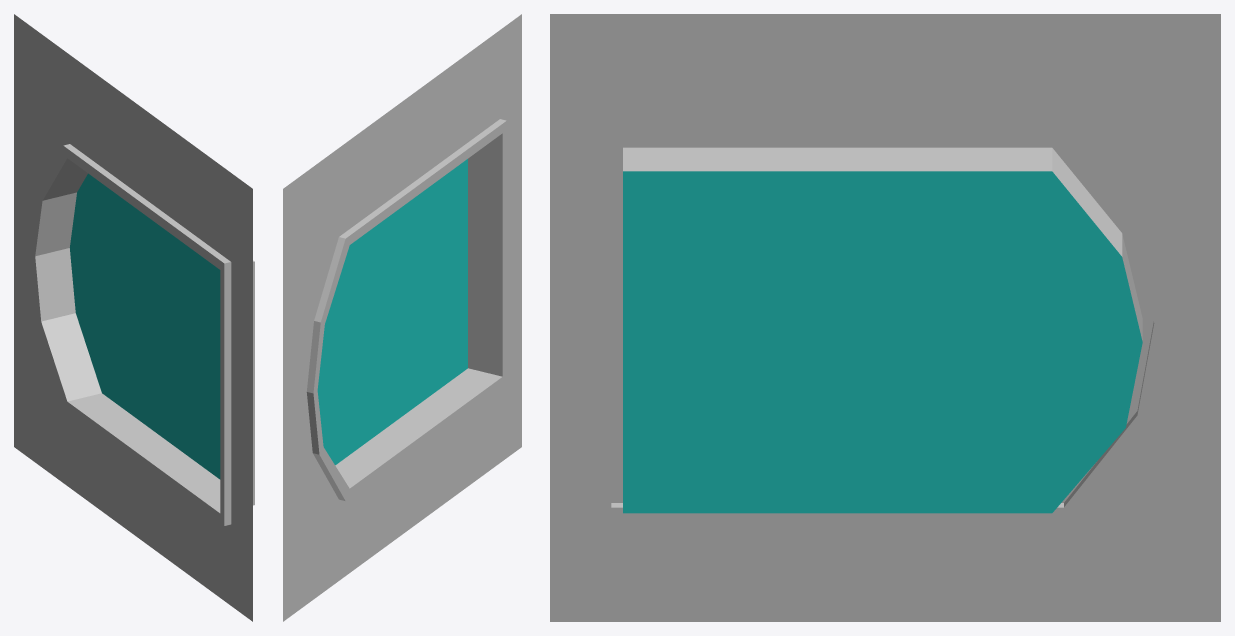
Rendered from SingleWIndow06.fbx.
The picture shows the model from 3 angles, left to right: view 1: azimuth 30°, elevation 25°; view 2: azimuth 150°, elevation 25°; view 3: azimuth 270°, elevation 25°; orthographic projection. The views are drawn at different scales.
Parts seen in each view (by area): view 1: Plane.001; view 2: Plane.001; view 3: Plane.001.
Part boxes in pixels (x1=…): Plane.001: x1=14, y1=14, x2=254, y2=621; Plane.001: x1=283, y1=14, x2=521, y2=621; Plane.001: x1=550, y1=14, x2=1220, y2=621.
Size of the model in its own units: 8.35 by 100 by 100.
